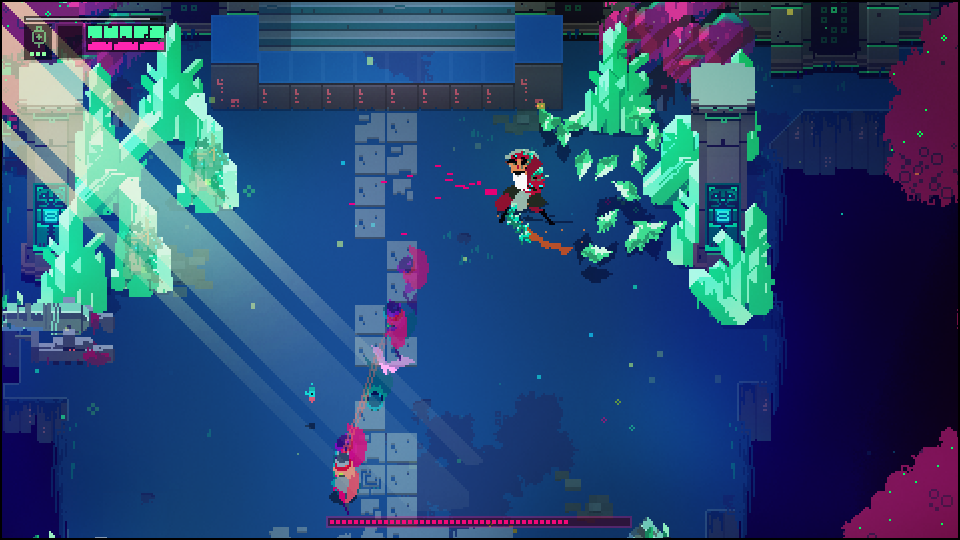hanged_man: (494, 147, 555, 253)
player: (326, 443, 364, 505)
